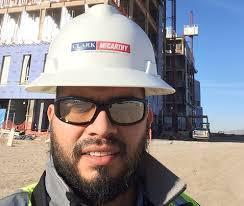helmet: (24, 4, 176, 95)
